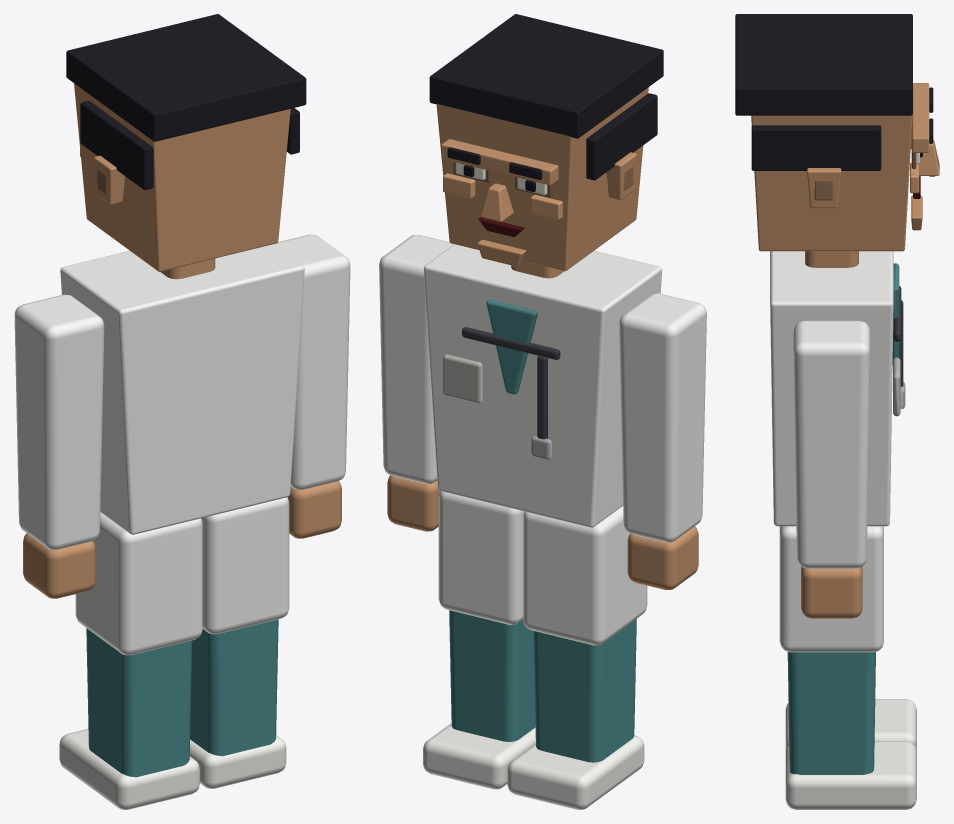
Rendered from doctor.glb.
3 views of the same model, side by side, from view 1: azimuth 30°, elevation 25°; view 2: azimuth 150°, elevation 25°; view 3: azimuth 270°, elevation 25° (orthographic). The views are drawn at different scales.
Visible parts, largest first — view 1: Torso, Head, LegL, ArmL, LegR, ArmR, NeckMesh; view 2: Torso, Head, LegL, LegR, ArmL, ArmR; view 3: Head, LegR, ArmR, Torso, LegL, NeckMesh.
Part boxes in pixels (x1=…): Torso: x1=60, y1=244, x2=304, y2=534; Head: x1=66, y1=14, x2=306, y2=271; LegL: x1=59, y1=512, x2=202, y2=809; ArmL: x1=14, y1=294, x2=104, y2=598; LegR: x1=189, y1=497, x2=289, y2=788; ArmR: x1=273, y1=234, x2=350, y2=538; NeckMesh: x1=160, y1=258, x2=215, y2=279; Torso: x1=423, y1=244, x2=662, y2=527; Head: x1=429, y1=14, x2=663, y2=270; LegL: x1=507, y1=506, x2=647, y2=809; LegR: x1=423, y1=491, x2=535, y2=789; ArmL: x1=619, y1=293, x2=706, y2=590; ArmR: x1=379, y1=234, x2=453, y2=531; Head: x1=735, y1=14, x2=939, y2=251; LegR: x1=779, y1=526, x2=916, y2=809; ArmR: x1=793, y1=320, x2=870, y2=618; Torso: x1=770, y1=251, x2=905, y2=526; LegL: x1=785, y1=699, x2=916, y2=751; NeckMesh: x1=805, y1=251, x2=858, y2=267.
Size of the model in its own units: 0.9192 by 2.06 by 0.5291.
